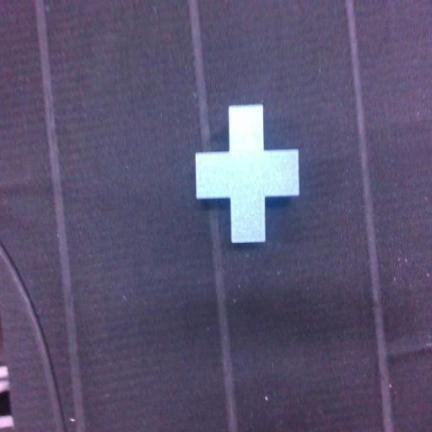cross: (196, 105, 298, 242)
